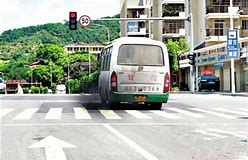smoke: (76, 88, 102, 111)
